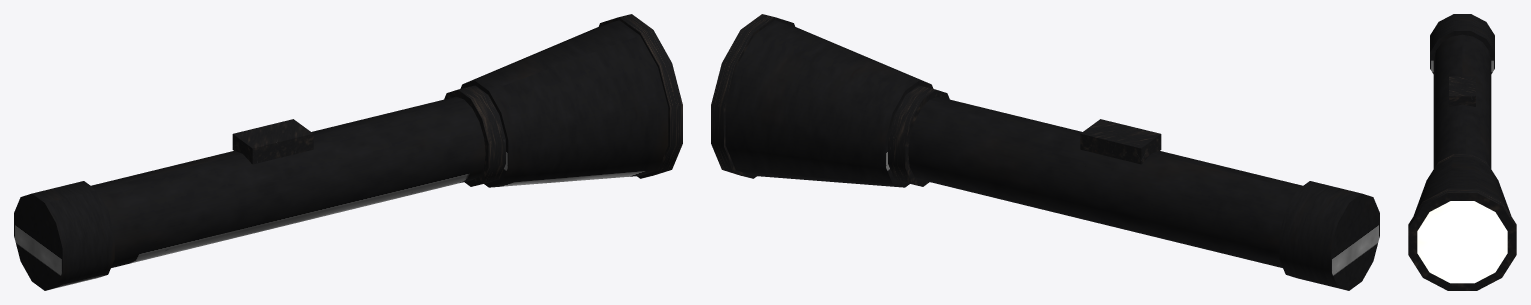
Rendered from lanterna.glb.
The picture shows the model from 3 angles, left to right: view 1: azimuth 30°, elevation 25°; view 2: azimuth 150°, elevation 25°; view 3: azimuth 270°, elevation 25°; orthographic projection. The views are drawn at different scales.
Size of the model in its own units: 13.95 by 3.21 by 3.21.
Materials: 3 (3 with a texture image).
